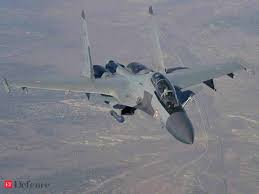maybay_muctieu: (6, 17, 249, 145)
